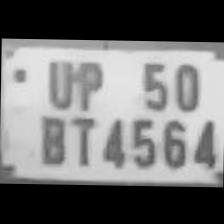0: (166, 57, 202, 112)
4: (187, 112, 220, 170), (96, 110, 127, 168)
5: (124, 108, 158, 168), (134, 56, 170, 111)
6: (157, 112, 188, 170)
B: (34, 109, 68, 166)
P: (70, 55, 106, 112)
T: (65, 110, 96, 168)
U: (40, 54, 74, 110)
